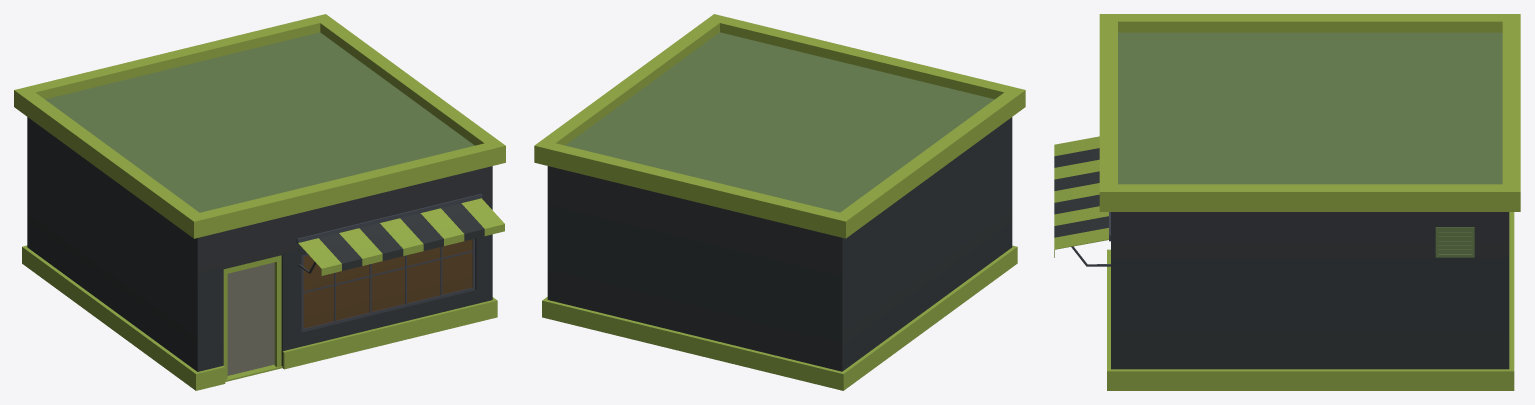
The model's file is SmallHouse_09.fbx.
3 renders of one model, left to right at view 1: azimuth 30°, elevation 25°; view 2: azimuth 150°, elevation 25°; view 3: azimuth 270°, elevation 25°, orthographic. The views are drawn at different scales.
Visible parts, largest first — view 1: SmallHouse_09; view 2: SmallHouse_09; view 3: SmallHouse_09.
Part boxes in pixels (x1,y1,x2,y2): SmallHouse_09: (14, 14, 505, 390); SmallHouse_09: (534, 14, 1025, 390); SmallHouse_09: (1054, 14, 1520, 390).
Bounding box in the file's own units: 6.34 × 3.36 × 7.03.
